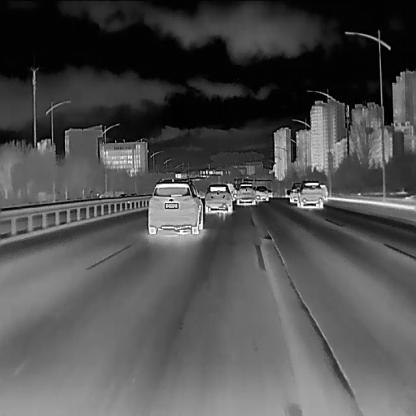car: (147, 178, 203, 234), (205, 182, 232, 212), (297, 180, 324, 209), (236, 182, 254, 205), (286, 184, 302, 203), (255, 185, 268, 199), (268, 189, 272, 197)
